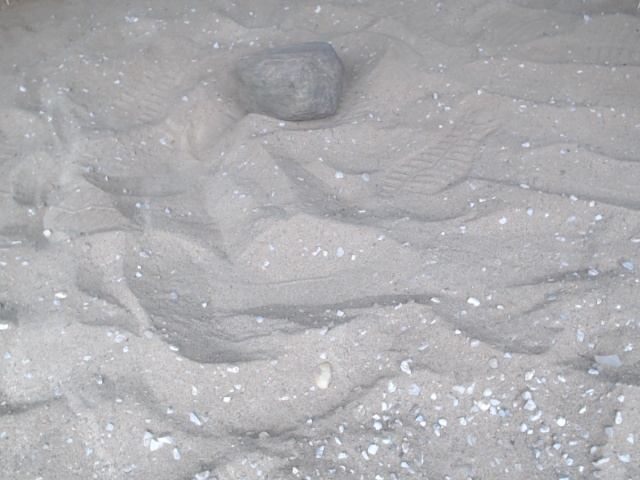rock: (210, 33, 365, 125)
